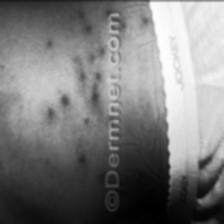Toxin: (75, 5, 105, 119), (58, 89, 70, 109), (76, 152, 86, 166)
